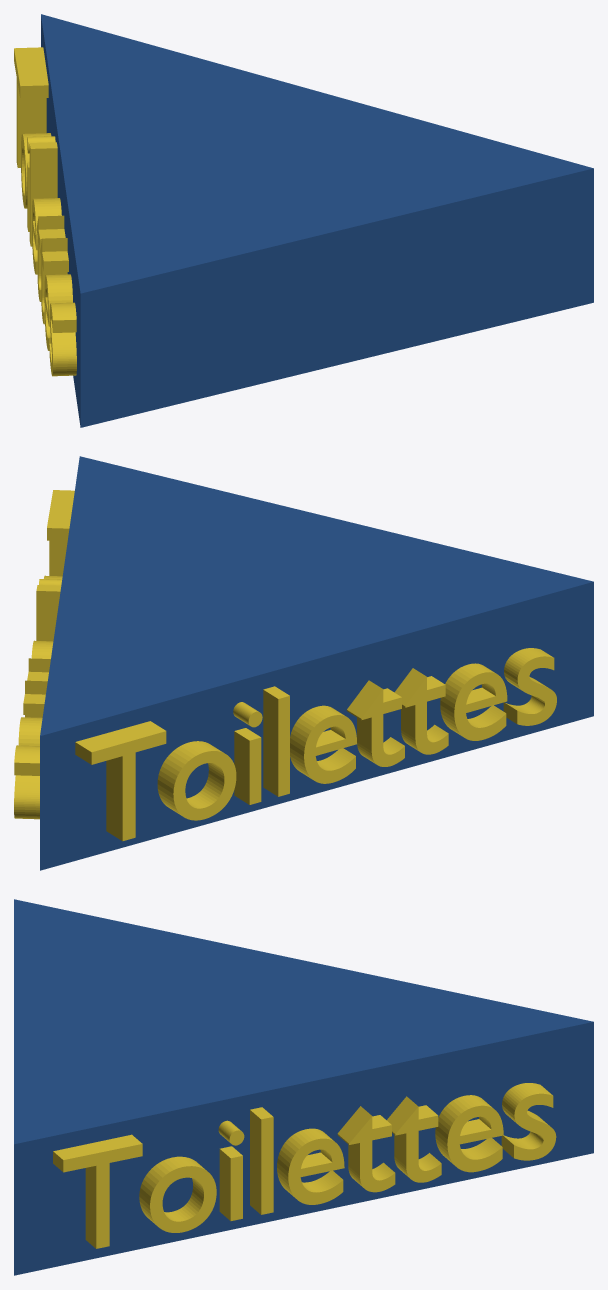
The model's file is Toilettes.fbx.
3 views of the same model, one above another, from view 1: azimuth 30°, elevation 25°; view 2: azimuth 150°, elevation 25°; view 3: azimuth 270°, elevation 25° (orthographic). The views are drawn at different scales.
Visible parts, largest first — view 1: Cube, Text.001; view 2: Cube, Text.001, Text; view 3: Cube, Text.
Boxes of the visible parts, x1,y1,x2,y2 form: Cube: (41,14,593,427); Text.001: (14,47,76,376); Cube: (40,456,593,870); Text.001: (75,648,556,841); Text: (14,490,74,819); Cube: (14,899,593,1275); Text: (53,1083,556,1248).
Bounding box in the file's own units: 63.52 × 15.84 × 63.36.
